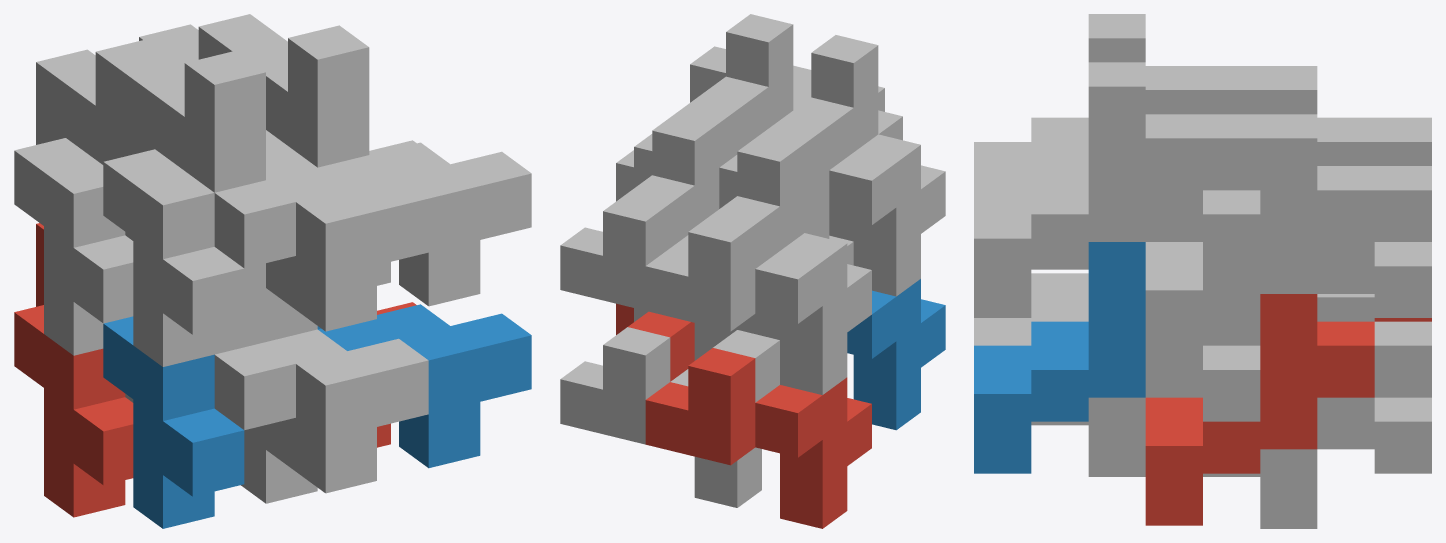
File: tiling.obj
The picture shows the model from 3 angles, left to right: view 1: azimuth 30°, elevation 25°; view 2: azimuth 150°, elevation 25°; view 3: azimuth 270°, elevation 25°; orthographic projection. The views are drawn at different scales.
Visible parts, largest first — view 1: copy_2_domain_4, copy_2_domain_8, copy_2_domain_2, copy_1_domain_4, copy_1_domain_3, copy_1_domain_2, copy_1_domain_1, copy_2_domain_6, copy_2_domain_3, copy_1_domain_8, copy_1_domain_6, copy_2_domain_7 (+1 smaller); view 2: copy_1_domain_3, copy_1_domain_1, copy_1_domain_4, copy_1_domain_5, copy_1_domain_7, copy_1_domain_2, copy_2_domain_8, copy_2_domain_4, copy_2_domain_7, copy_2_domain_3, copy_1_domain_8, copy_2_domain_1 (+2 smaller); view 3: copy_2_domain_8, copy_2_domain_7, copy_2_domain_5, copy_2_domain_6, copy_1_domain_5, copy_1_domain_6, copy_1_domain_8, copy_1_domain_7, copy_2_domain_4, copy_2_domain_3, copy_2_domain_2, copy_1_domain_3 (+2 smaller).
Part boxes in pixels (x1,y1,x2,y2): copy_2_domain_4: [155, 50, 428, 331]; copy_2_domain_8: [262, 25, 531, 306]; copy_2_domain_2: [214, 263, 428, 493]; copy_1_domain_4: [103, 61, 244, 366]; copy_1_domain_3: [14, 49, 133, 355]; copy_1_domain_2: [103, 316, 244, 528]; copy_1_domain_1: [14, 223, 133, 517]; copy_2_domain_6: [317, 304, 531, 468]; copy_2_domain_3: [65, 39, 176, 240]; copy_1_domain_8: [228, 36, 317, 341]; copy_1_domain_6: [241, 418, 317, 503]; copy_2_domain_7: [173, 14, 416, 285]; copy_1_domain_3: [645, 214, 871, 394]; copy_1_domain_1: [645, 348, 871, 528]; copy_1_domain_4: [719, 115, 945, 296]; copy_1_domain_5: [560, 327, 761, 507]; copy_1_domain_7: [560, 193, 737, 360]; copy_1_domain_2: [847, 279, 945, 430]; copy_2_domain_8: [690, 14, 811, 146]; copy_2_domain_4: [787, 35, 902, 169]; copy_2_domain_7: [616, 112, 719, 247]; copy_2_domain_3: [713, 133, 829, 268]; copy_1_domain_8: [634, 94, 743, 188]; copy_2_domain_1: [713, 313, 779, 402]; copy_2_domain_8: [974, 62, 1202, 317]; copy_2_domain_7: [1145, 114, 1374, 369]; copy_2_domain_5: [1145, 294, 1374, 525]; copy_2_domain_6: [974, 242, 1145, 473]; copy_1_domain_5: [1203, 321, 1431, 528]; copy_1_domain_6: [1031, 318, 1260, 476]; copy_1_domain_8: [1031, 114, 1260, 269]; copy_1_domain_7: [1317, 166, 1431, 317]; copy_2_domain_4: [974, 14, 1202, 190]; copy_2_domain_3: [1260, 66, 1374, 165]; copy_2_domain_2: [974, 273, 1088, 345]; copy_1_domain_3: [1374, 117, 1431, 165].
Bounding box in the file's own units: 6 × 9 × 8.
